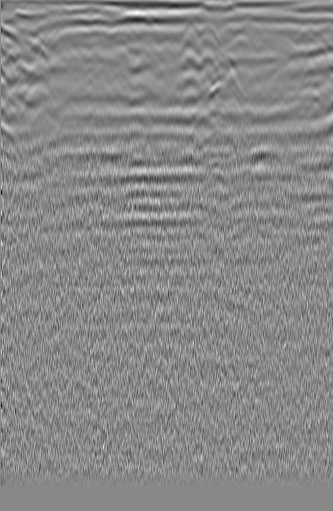가스: (191, 129, 235, 166)
상수: (6, 58, 46, 90)
오수: (285, 27, 322, 54)
우수: (130, 50, 162, 85)
